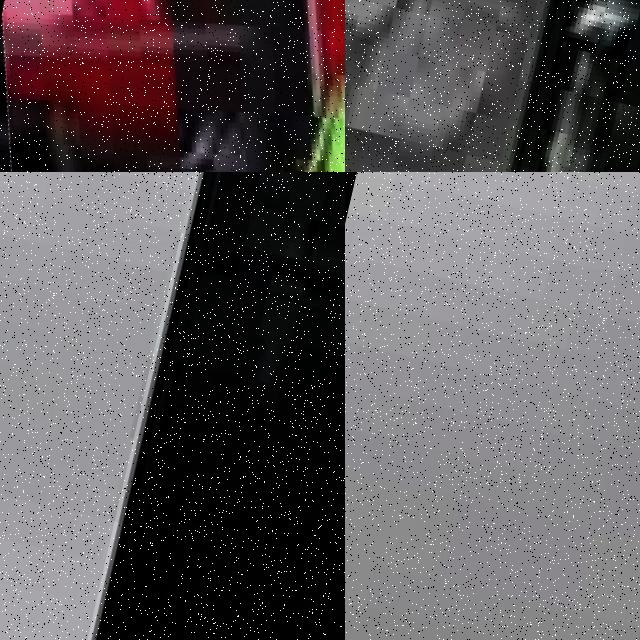drone: (0, 0, 345, 172)
